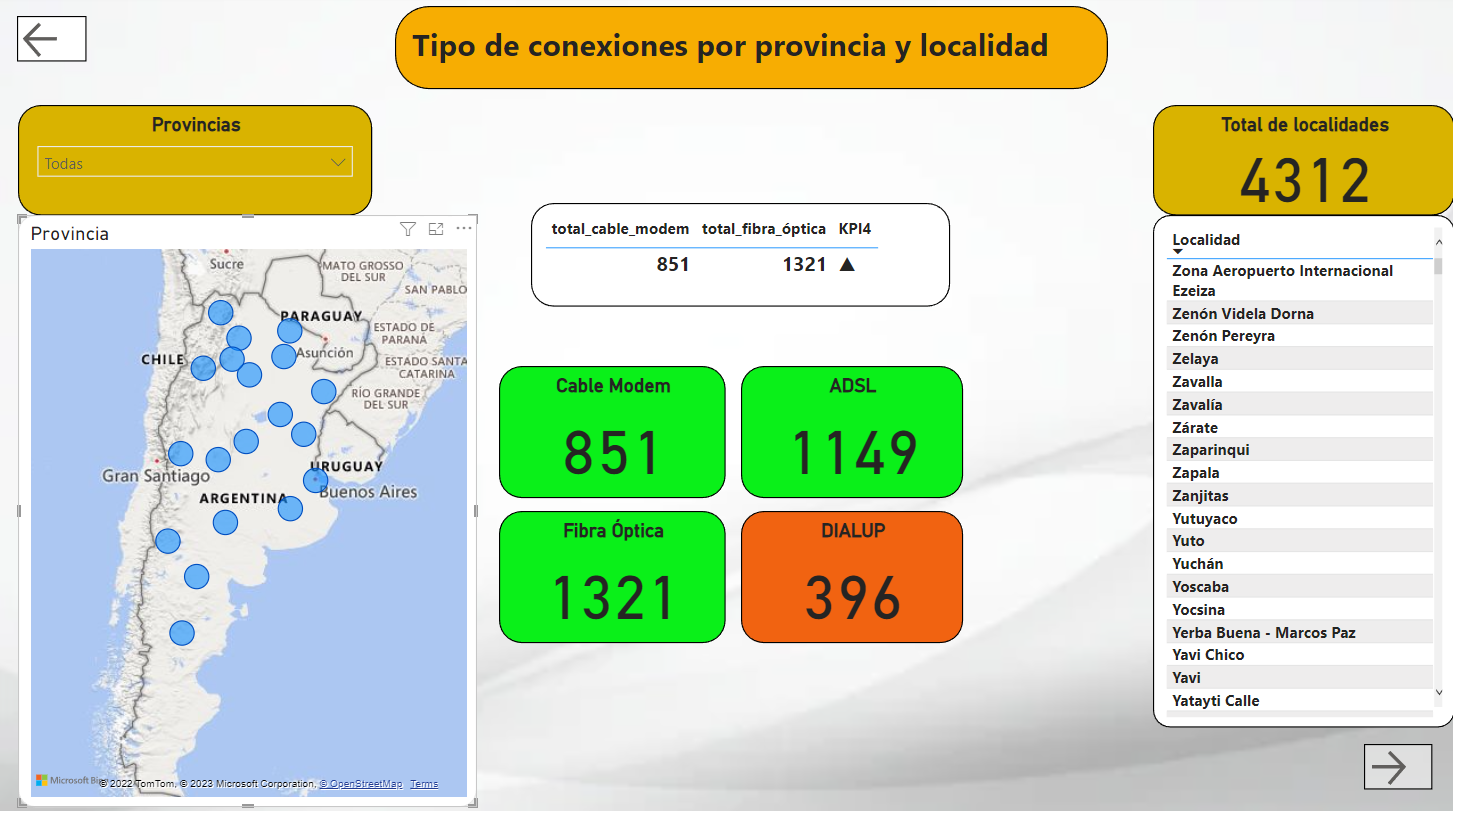

What the dashboard file says about the page in this screenshot:
{"tool":"powerbi","page":{"name":"Conexiones x Provincia y Localidad","canvas":[1280,720],"ordinal":4},"visuals":[{"type":"map","fields":{"Category":["Listado_de_localidades_con_conectividad_a_internet.Provincia"]},"box":[18.4,192.3,403,519.8],"z":0},{"type":"card","title":"Fibra Óptica","fields":{"Values":["Sum(Listado_de_localidades_con_conectividad_a_internet.FIBRAOPTICA)"]},"box":[440.8,452.2,199.3,115.9],"z":1000},{"type":"card","title":"DIALUP","fields":{"Values":["Sum(Listado_de_localidades_con_conectividad_a_internet.DIALUP)"]},"box":[653.3,452.2,194.9,115.9],"z":2000},{"type":"card","title":"Cable Modem","fields":{"Values":["Sum(Listado_de_localidades_con_conectividad_a_internet.CABLEMODEM)"]},"box":[440.8,324.9,199.3,115.9],"z":3000},{"type":"card","title":"ADSL","fields":{"Values":["Sum(Listado_de_localidades_con_conectividad_a_internet.ADSL)"]},"box":[653.3,324.9,194.9,115.9],"z":4000},{"type":"slicer","title":"Provincias","fields":{"Values":["Listado_de_localidades_con_conectividad_a_internet.Provincia"]},"box":[18.4,95.7,310.8,96.6],"z":5000},{"type":"card","title":"Total de localidades","fields":{"Values":["CountNonNull(Listado_de_localidades_con_conectividad_a_internet.Localidad)"]},"box":[1015,95.7,265.2,96.6],"z":6000},{"type":"tableEx","fields":{"Values":["Listado_de_localidades_con_conectividad_a_internet.Localidad"]},"box":[1015,192.3,265.2,450.4],"z":8000},{"type":"textbox","box":[349.5,8.8,626,72.9],"z":9000},{"type":"actionButton","box":[17.6,17.6,60.6,40.4],"z":10000},{"type":"actionButton","box":[1200.6,657,60.3,39.9],"z":11000},{"type":"tableEx","fields":{"Values":["Listado_de_localidades_con_conectividad_a_internet.total_cable_modem","Listado_de_localidades_con_conectividad_a_internet.total_fibra_óptica","Listado_de_localidades_con_conectividad_a_internet.KPI4"]},"box":[468.9,181.8,367.9,91.3],"z":11001}]}

Visuals, with their boxes in screenshot pixels (x1, y1, x2, y2), scaled from the page's 1280x720 canvas onto the 1461x817 screenshot:
map - Listado_de_localidades_con_conectividad_a_internet.Provincia: region(21, 218, 481, 808)
"Fibra Óptica" card: region(503, 513, 731, 645)
"DIALUP" card: region(746, 513, 968, 645)
"Cable Modem" card: region(503, 369, 731, 500)
"ADSL" card: region(746, 369, 968, 500)
"Provincias" slicer: region(21, 109, 376, 218)
"Total de localidades" card: region(1159, 109, 1460, 218)
tableEx - Listado_de_localidades_con_conectividad_a_internet.Localidad: region(1159, 218, 1460, 729)
textbox: region(399, 10, 1113, 93)
actionButton: region(20, 20, 89, 66)
actionButton: region(1370, 746, 1439, 791)
tableEx - Listado_de_localidades_con_conectividad_a_internet.total_cable_modem x Listado_de_localidades_con_conectividad_a_internet.total_fibra_óptica: region(535, 206, 955, 310)
